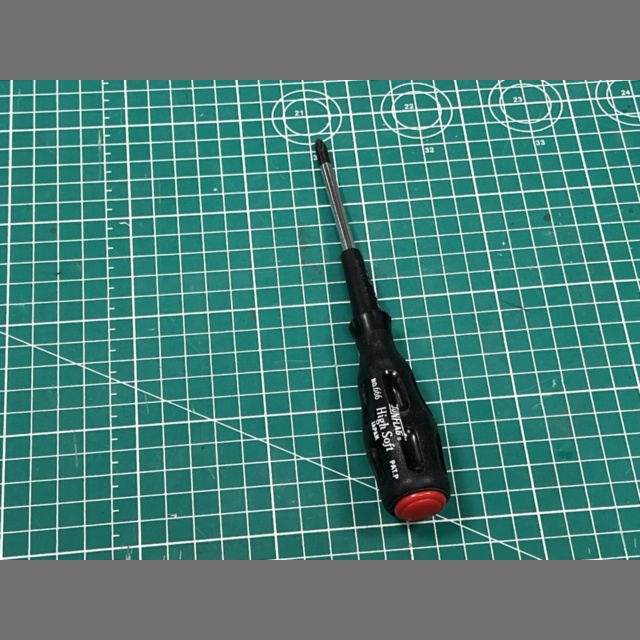screwdriver: (316, 139, 450, 522)
